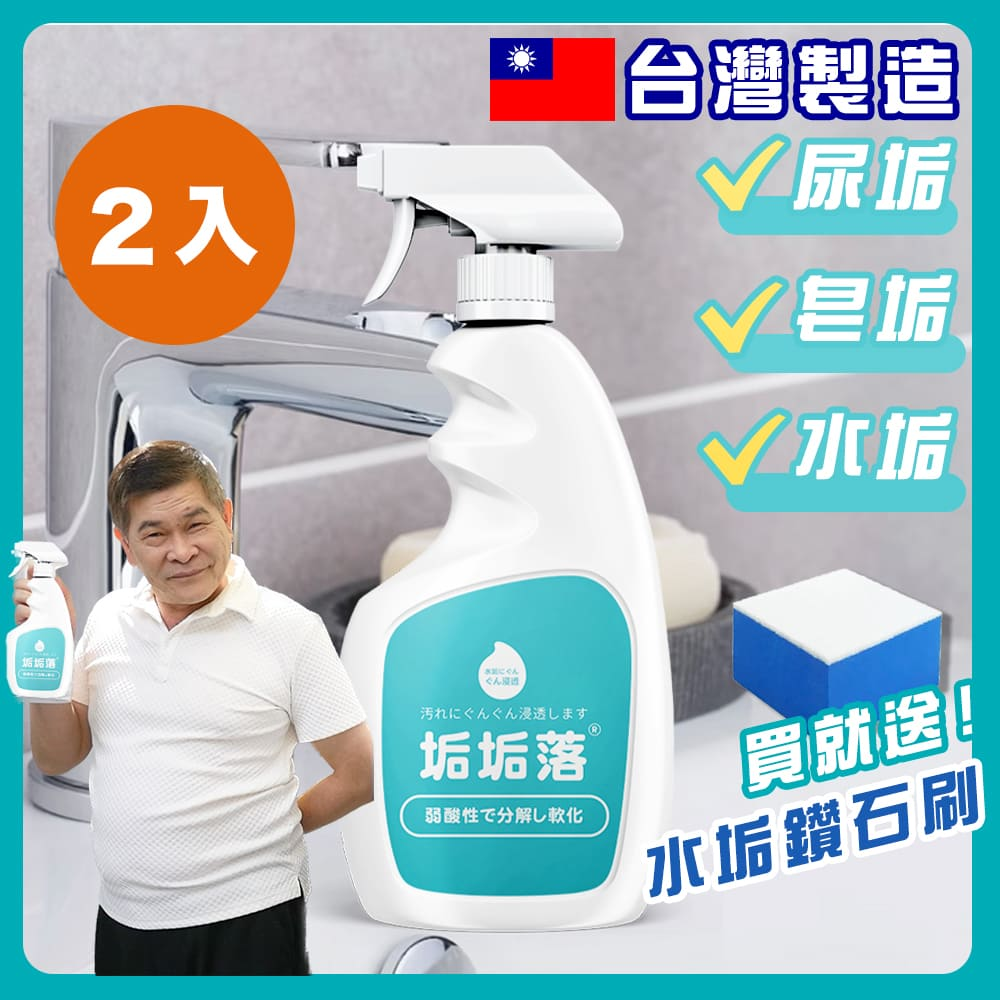cleaner: (308, 135, 678, 938)
